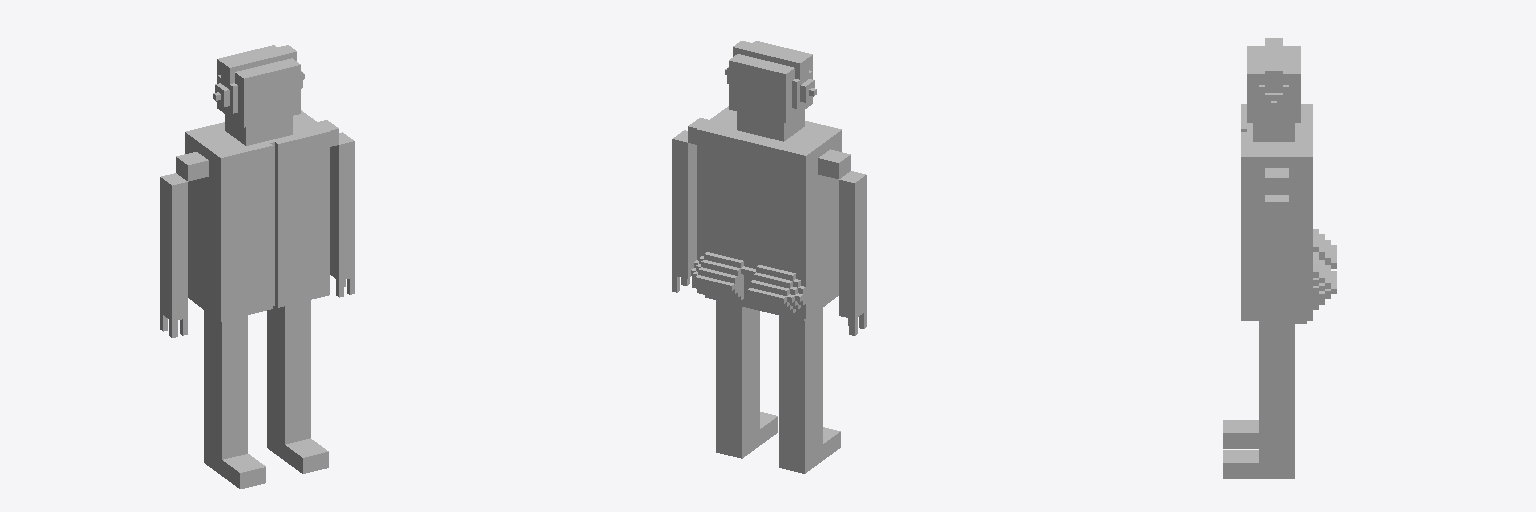
Rendered from Player.obj.
3 views of the same model, side by side, from view 1: azimuth 30°, elevation 25°; view 2: azimuth 150°, elevation 25°; view 3: azimuth 270°, elevation 25° (orthographic).
Bounding box in the file's own units: 35 × 74 × 19.